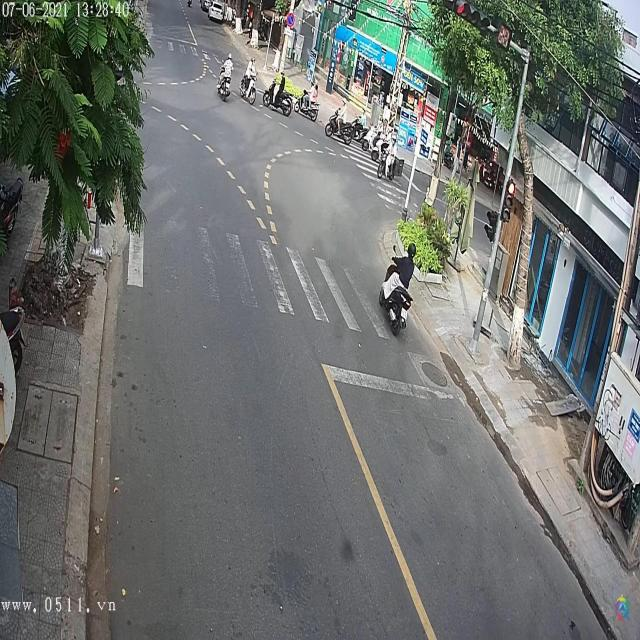car: (209, 4, 227, 24)
motorcycle: (380, 260, 416, 330), (264, 76, 296, 117), (325, 107, 355, 145), (378, 145, 402, 184), (295, 88, 320, 121), (219, 78, 232, 102)
